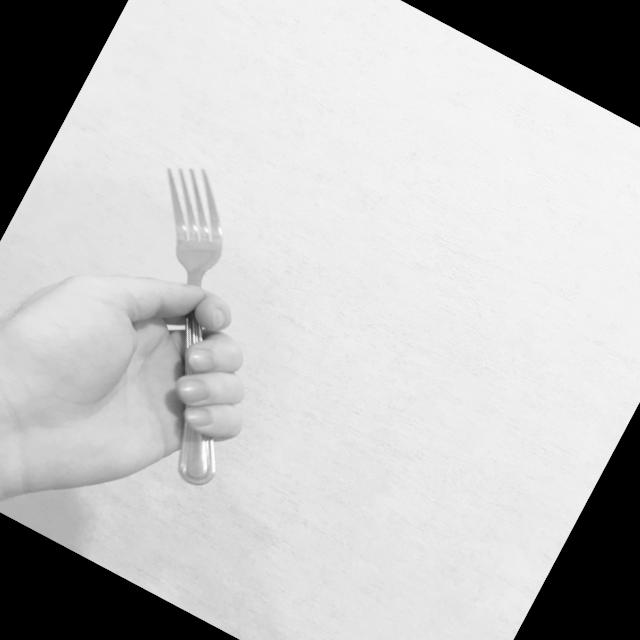fork: (36, 150, 342, 496)
